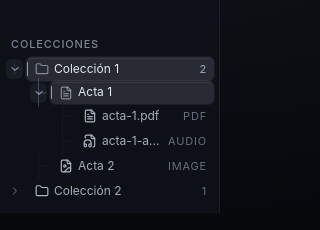
Test: DocumentExplorer › does not auto-expand a closed item when an asset becomes selected
This screenshot has width=320, height=230.
Check: the list item "Acta 1" is shown, box [6,81,214,153]
Click the button named "Colapsar documento Acta 1" at {"x": 38, "y": 93}, box [30,83,47,103]
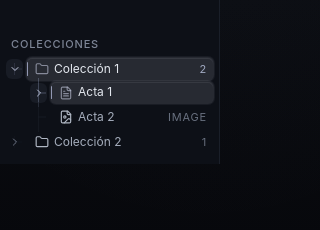
Check: the list item "Acta 1" is collapsed, box [6,81,214,104]
Check: the button "acta-1.pdf" is gone
